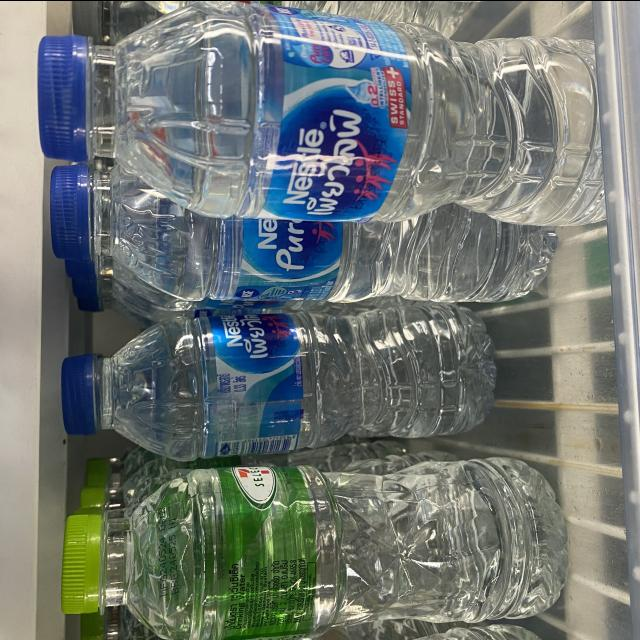plastik: (38, 0, 604, 225), (61, 457, 568, 640), (50, 164, 557, 300), (61, 303, 496, 459)
